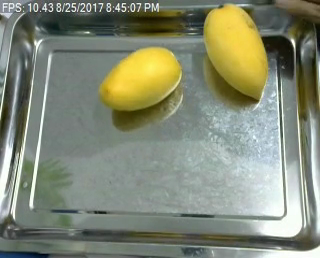Mango: (198, 0, 272, 106), (96, 43, 184, 113)
